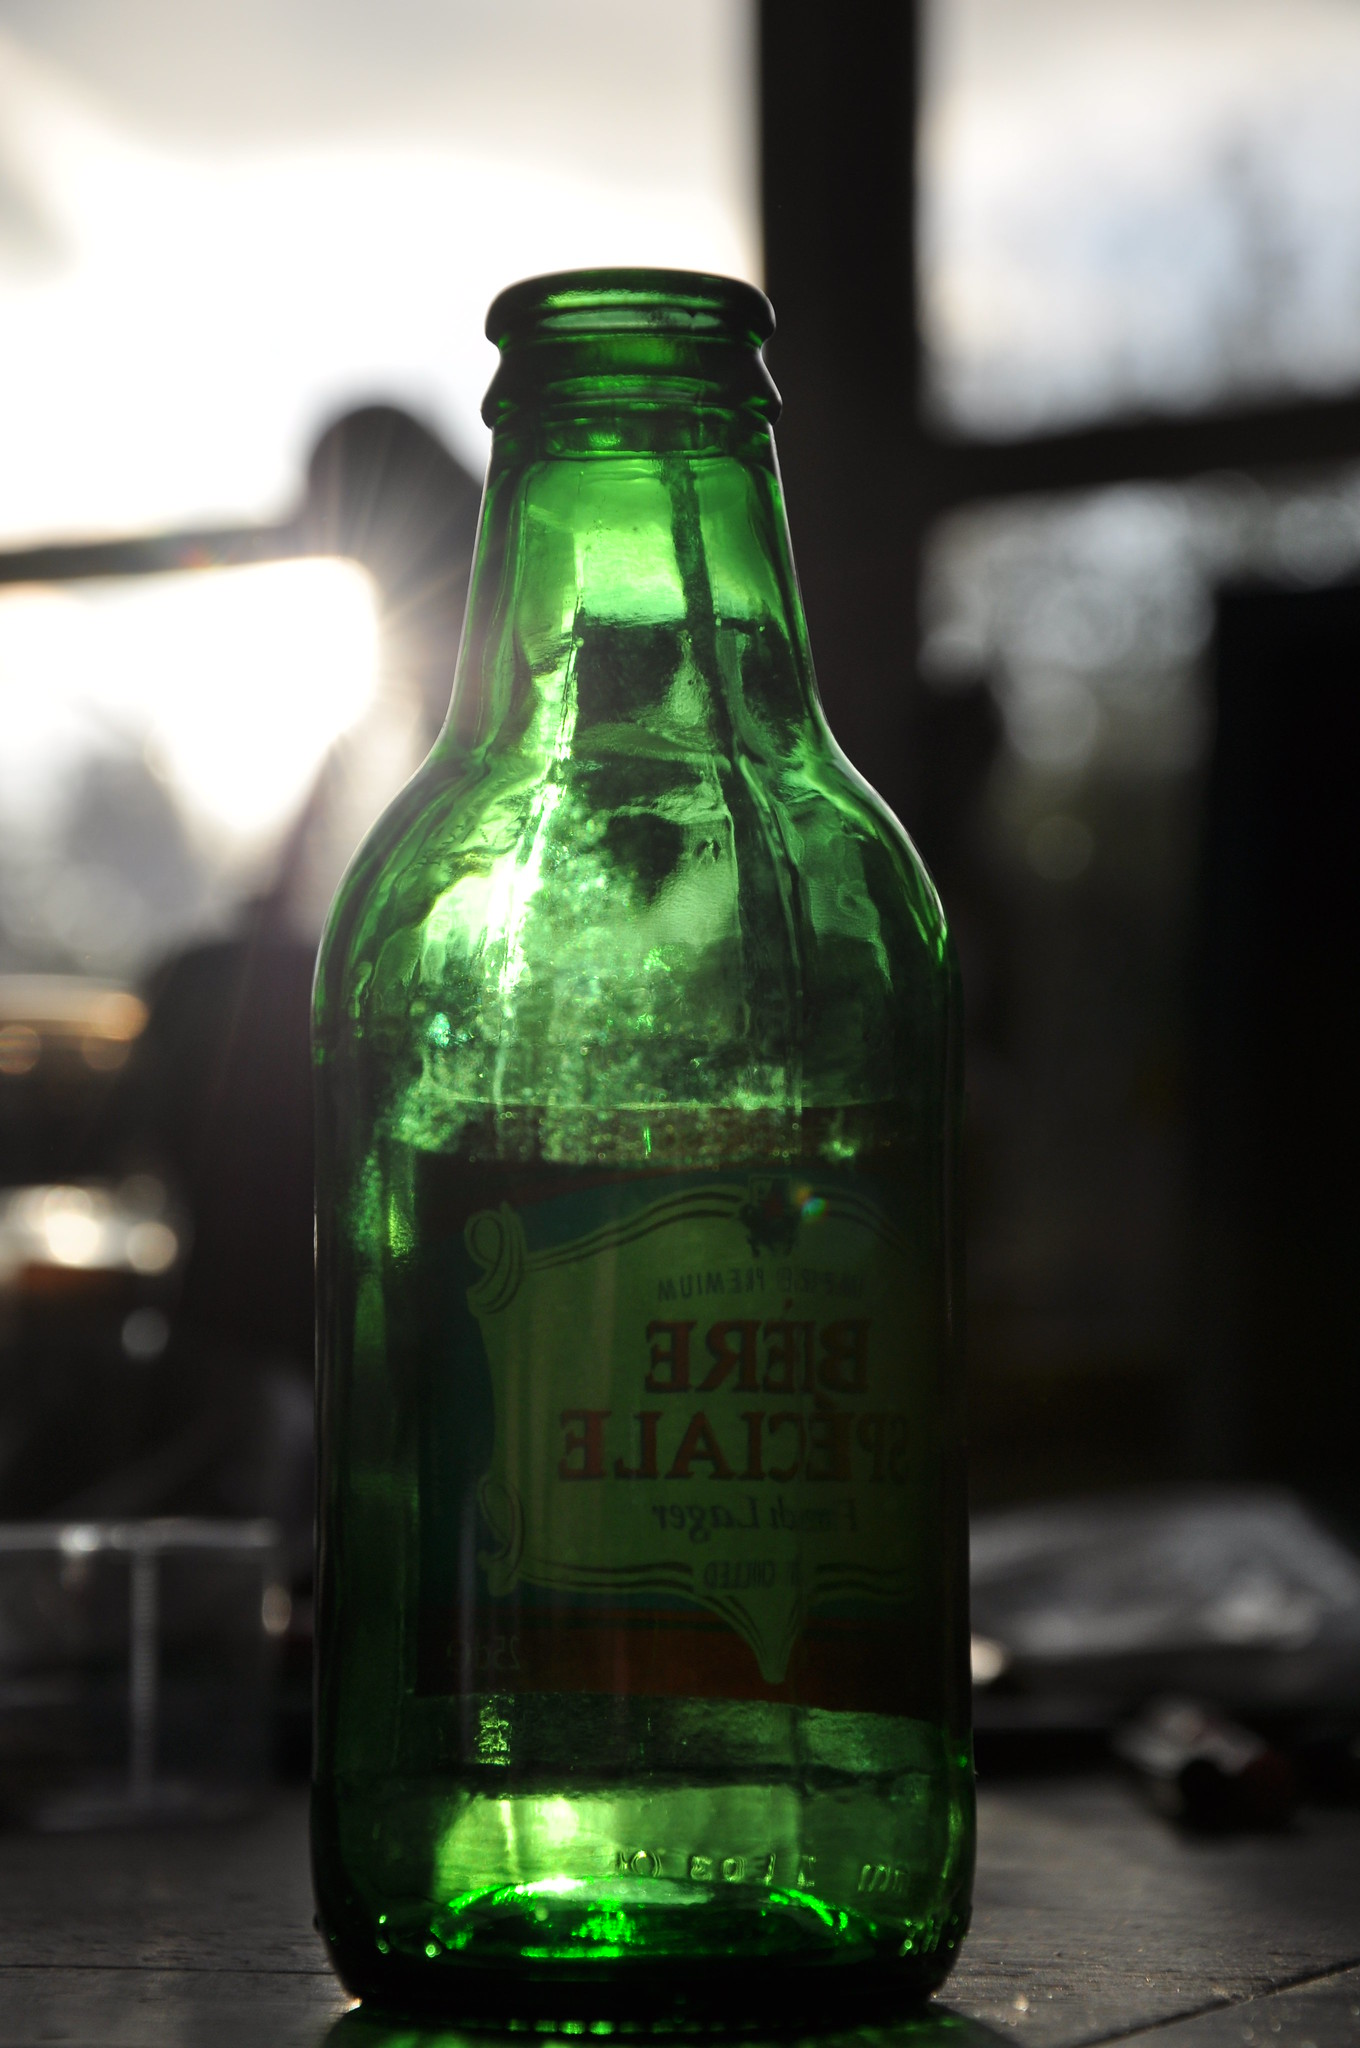bottle: (273, 262, 996, 2019)
